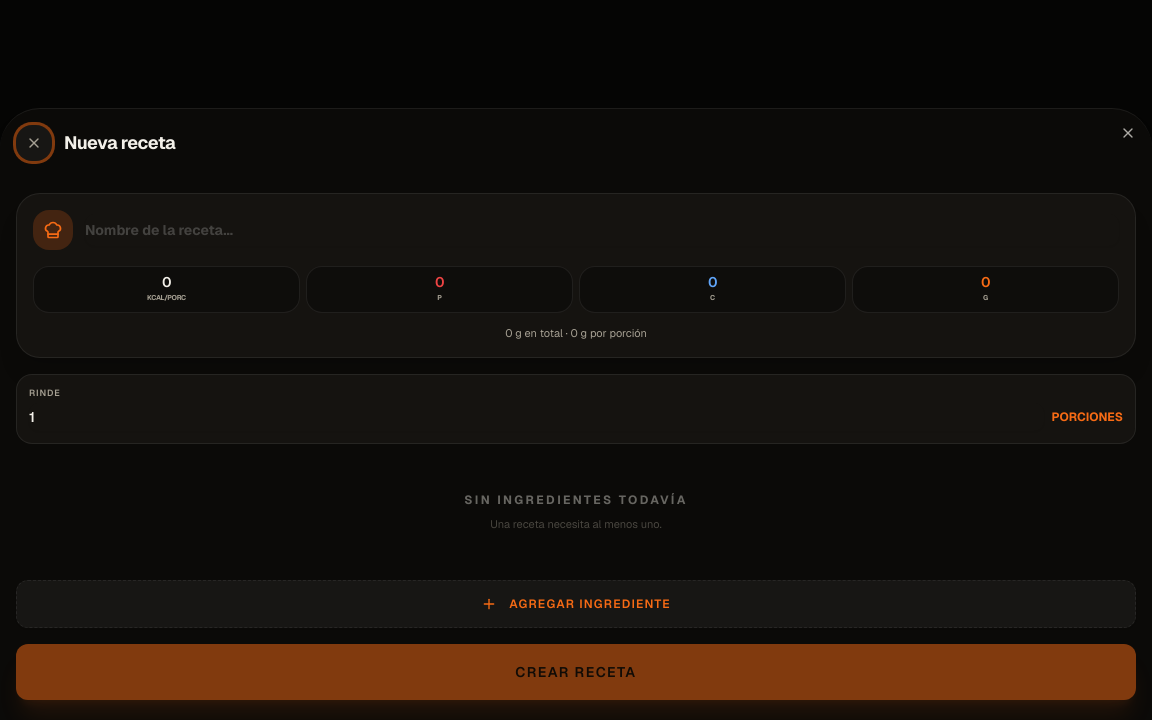
Test: RecipeEditorSheet — creating › recomputes the per-serving totals live as grams change
Click the button "Agregar Ingrediente" at (576, 604), box [16,580,1136,628]
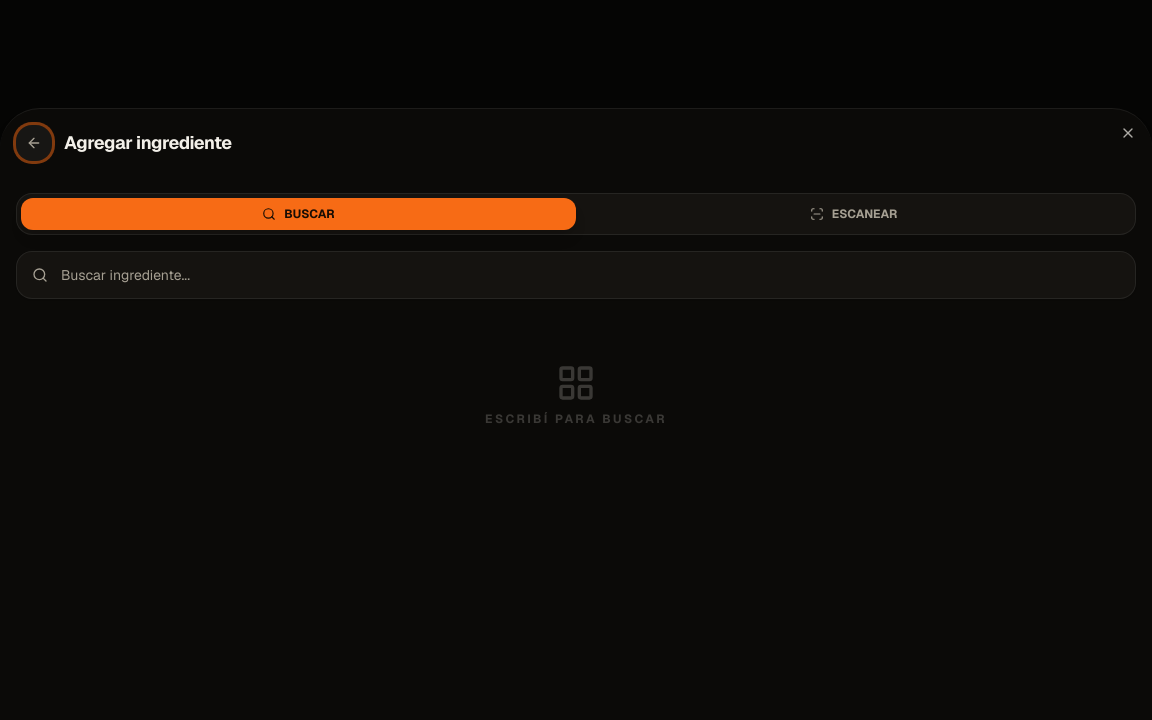
Type "len" into the field with placeholder "Buscar ingrediente..." at (576, 275), box [16,251,1136,299]
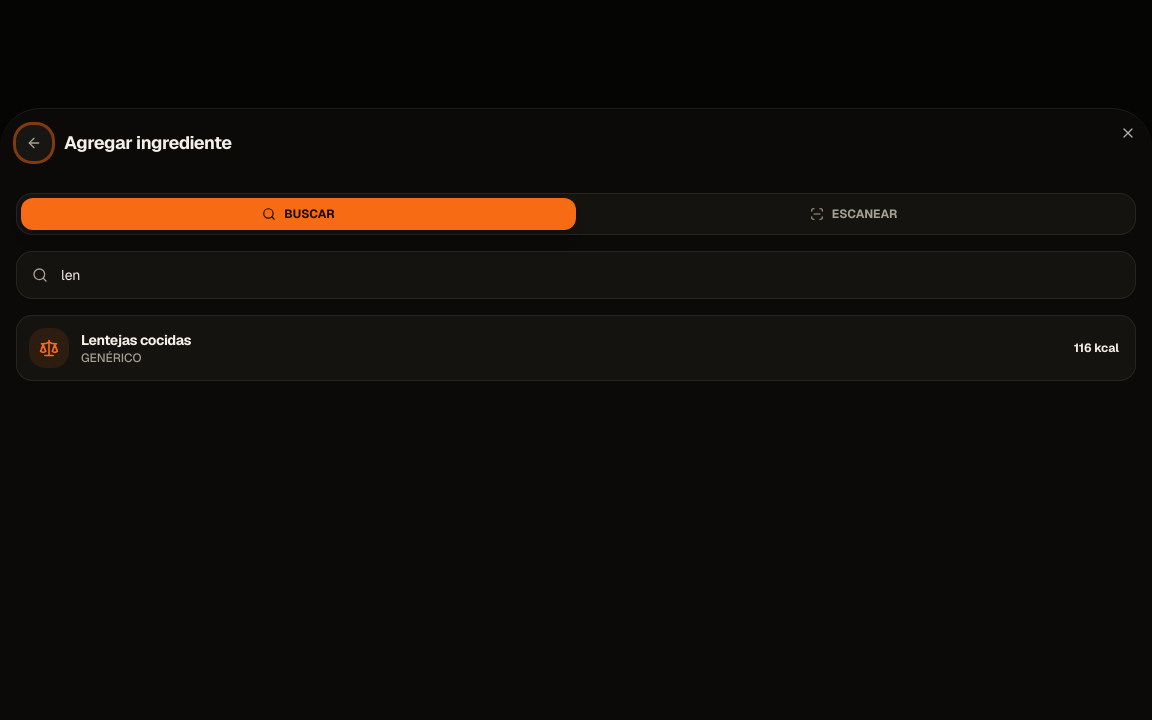
Click the heading "Lentejas cocidas" at (136, 340), box [81,330,191,350]
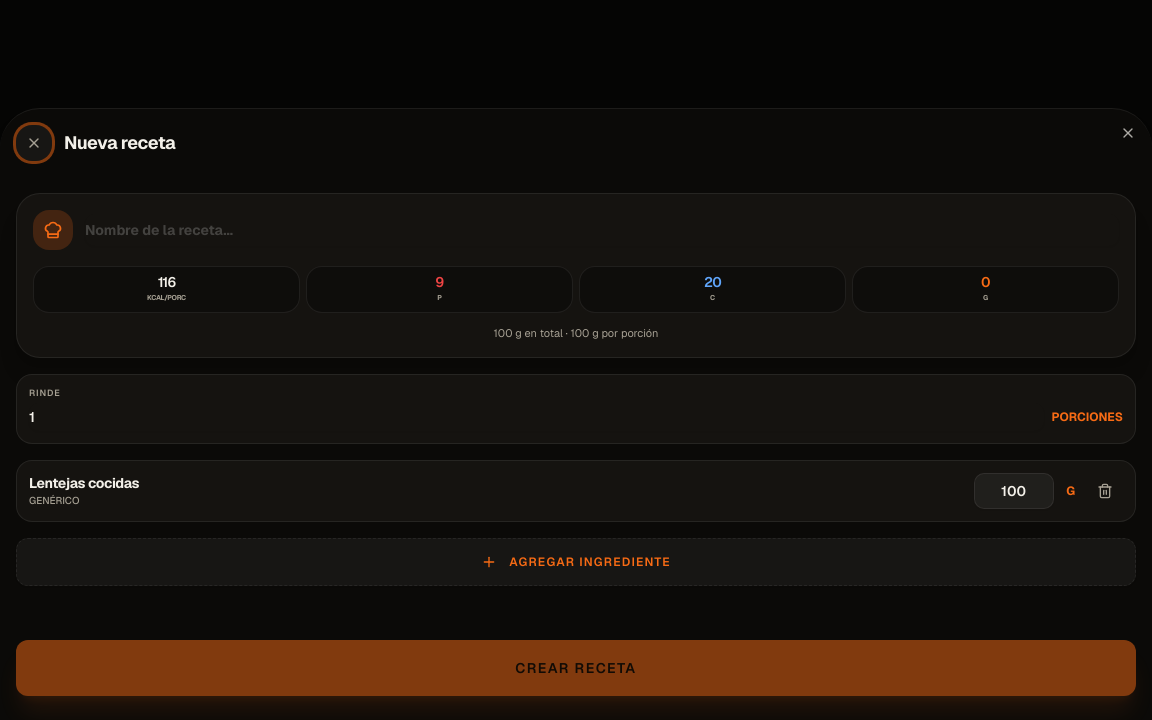
expect the text "116" is shown: met, box [158,275,175,289]
Replace the text in the number field named "Gramos de Lentejas cocidas" with "200" at (1014, 490), box [974,472,1054,508]
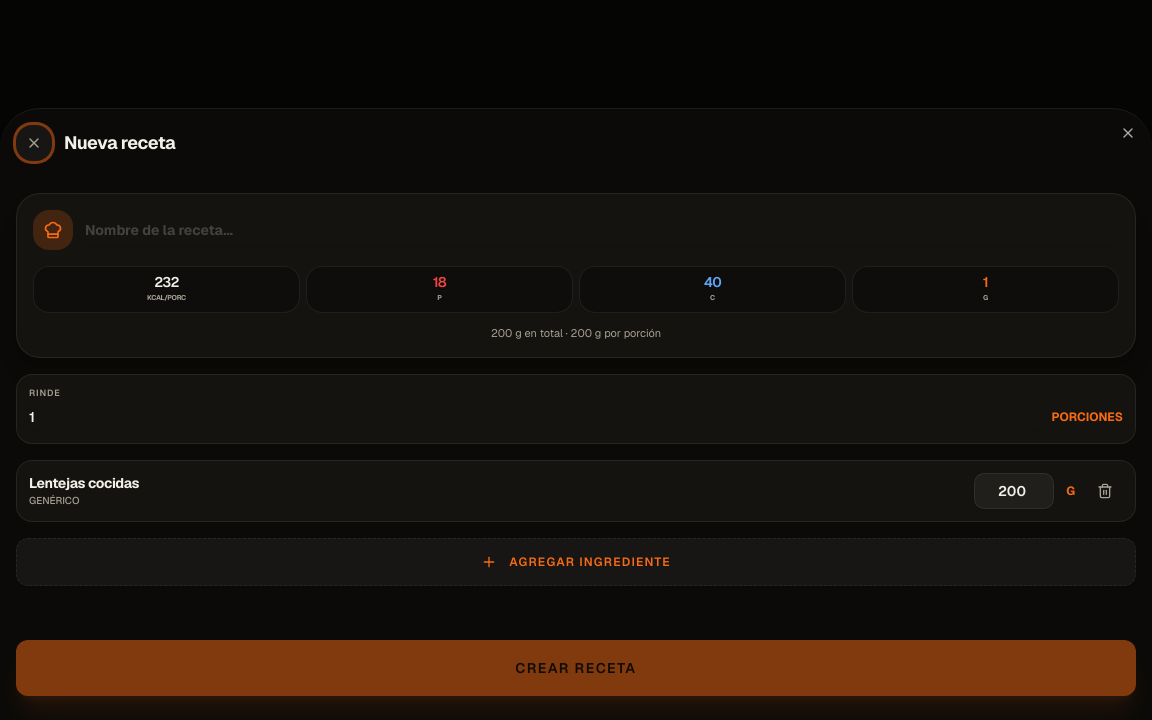
expect the text "232" is shown: met, box [154,275,179,289]
